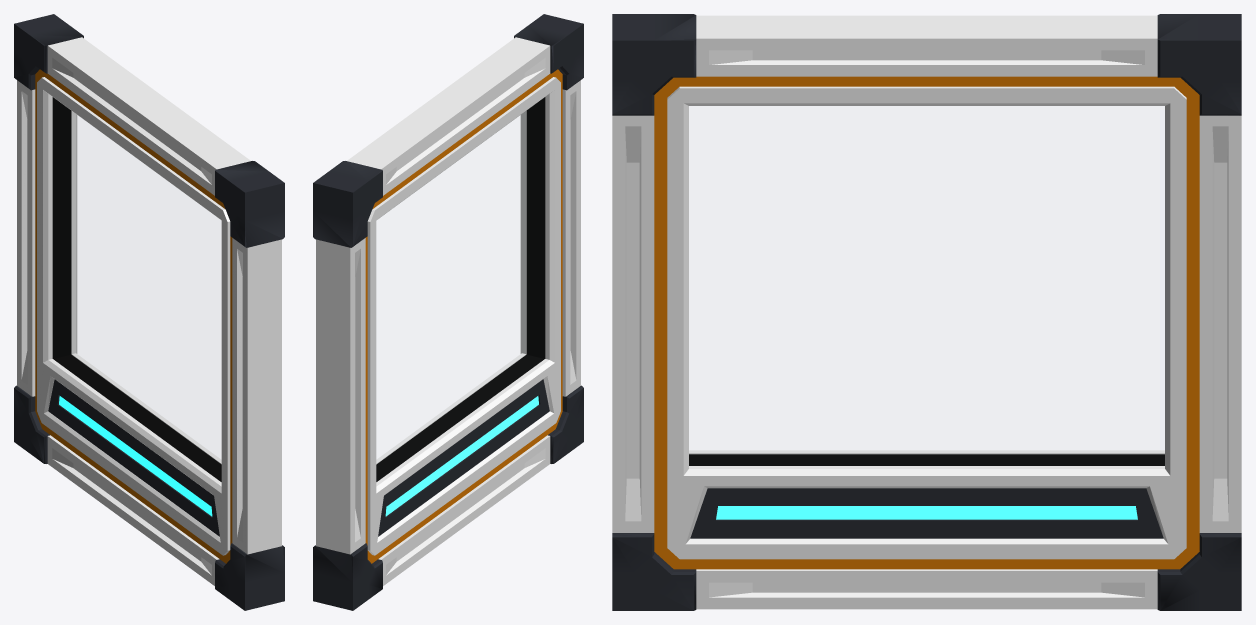
Rendered from wall_window.glb.
3 views of the same model, side by side, from view 1: azimuth 30°, elevation 25°; view 2: azimuth 150°, elevation 25°; view 3: azimuth 270°, elevation 25° (orthographic). The views are drawn at different scales.
Parts seen in each view (by area): view 1: SM_WallPanel_Large_Window; view 2: SM_WallPanel_Large_Window; view 3: SM_WallPanel_Large_Window.
Part boxes in pixels (x1=…): SM_WallPanel_Large_Window: x1=14, y1=14, x2=284, y2=610; SM_WallPanel_Large_Window: x1=313, y1=14, x2=583, y2=610; SM_WallPanel_Large_Window: x1=612, y1=14, x2=1241, y2=610.
Size of the model in its own units: 0.2 by 2 by 2.
